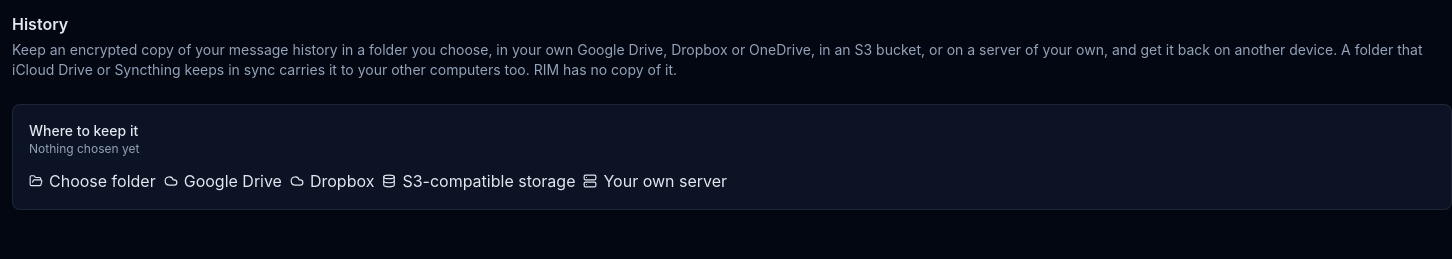
Test: HistoryArchiveSettings › explains a failed sign-in
This screenshot has width=1452, height=259.
Click the button "Dropbox".
click(332, 181)  # box [290,169,374,193]
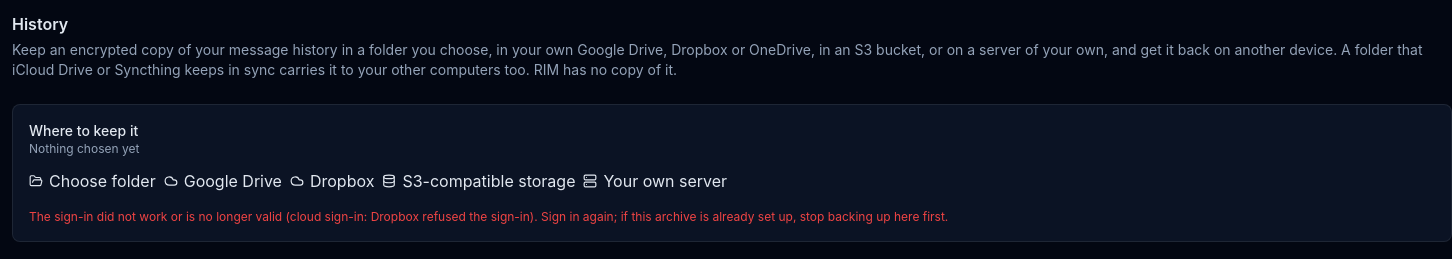
Result: the message shows "Sign in again" at [29,209,948,224]
